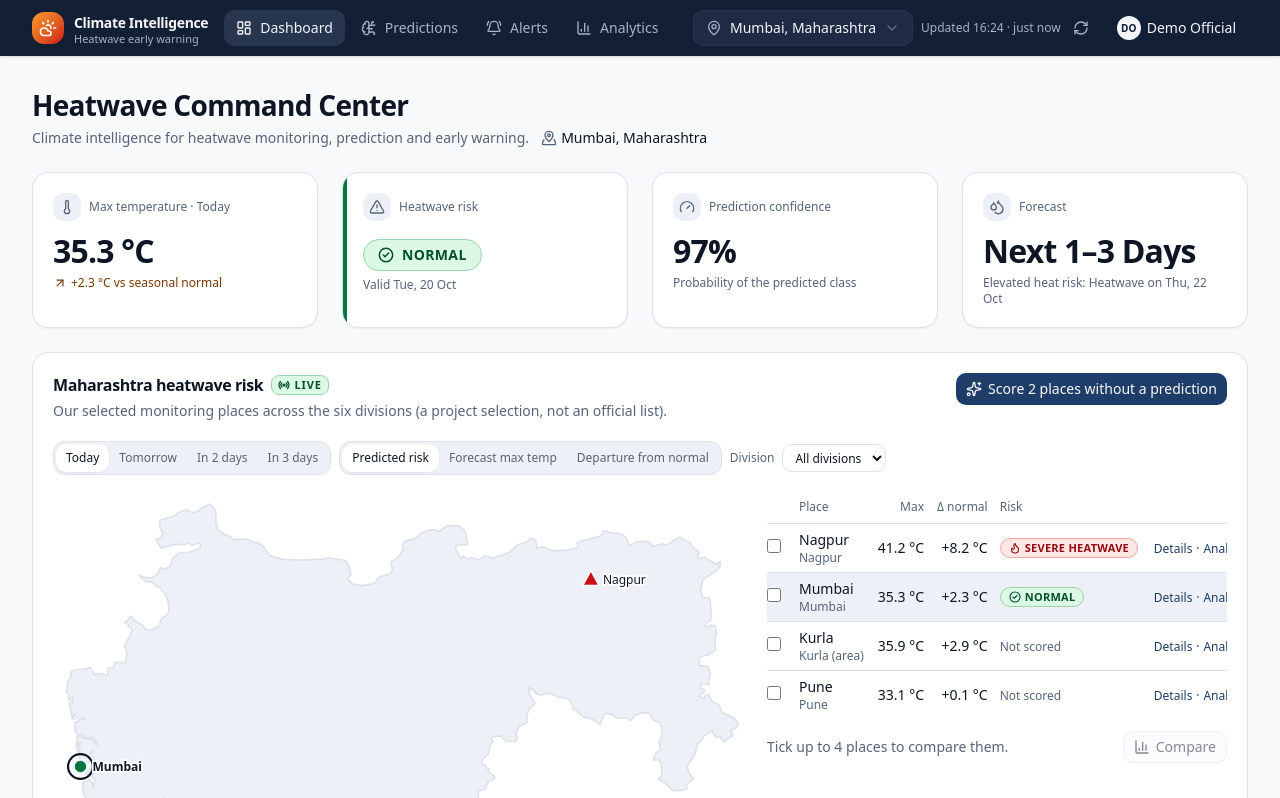
Scenario: Heatwave Command Center › recolours the map by forecast temperature with a data-derived legend
Click the button "Forecast max temp" at (503, 458), box [439,444,567,472]
(page scrolled)
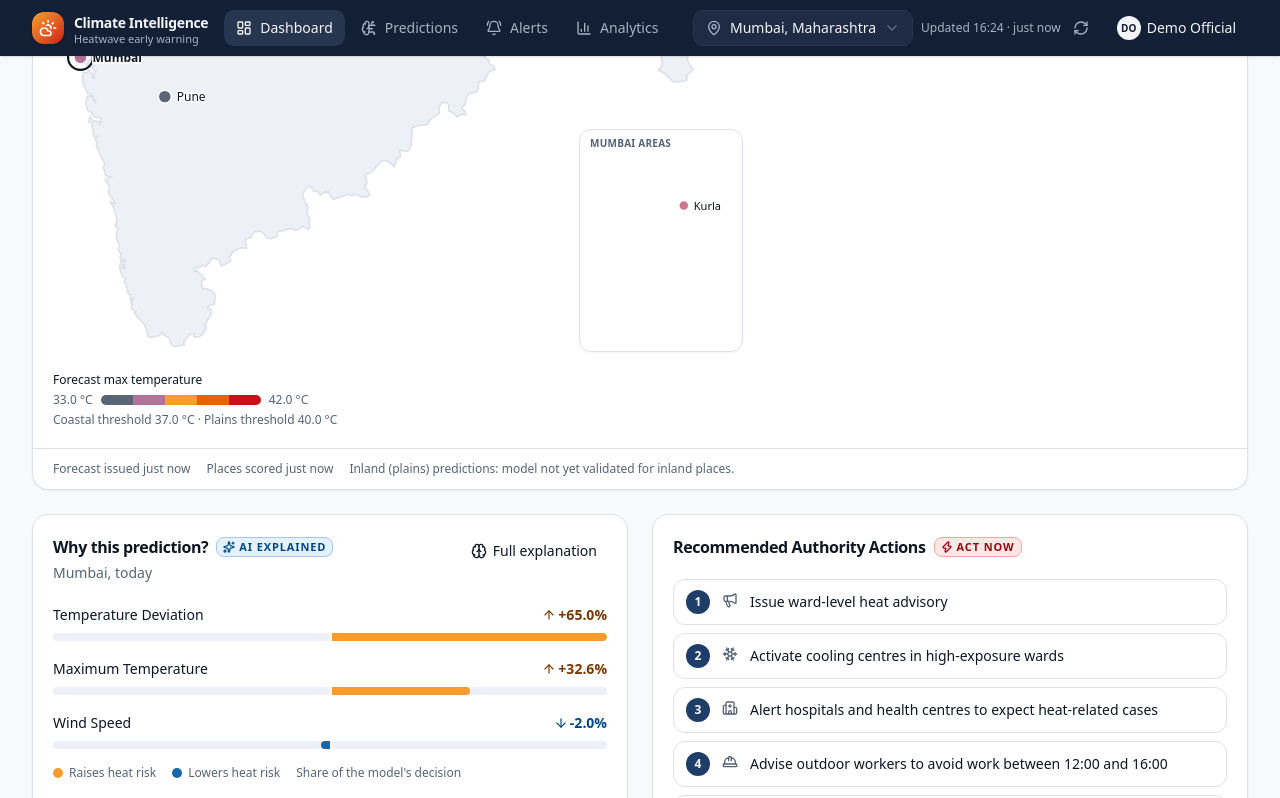
Check: the element named "Forecast max temperature legend" shows "33.0 °C", box [53,391,93,408]
Check: the element named "Forecast max temperature legend" shows "42.0 °C", box [269,391,308,408]
Check: the element named "Forecast max temperature legend" shows "Plains threshold 40.0 °C", box [53,411,337,428]
